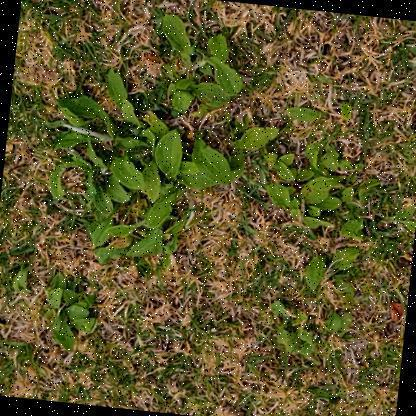Weeds: (37, 3, 415, 308), (266, 299, 355, 361), (41, 270, 102, 354)
